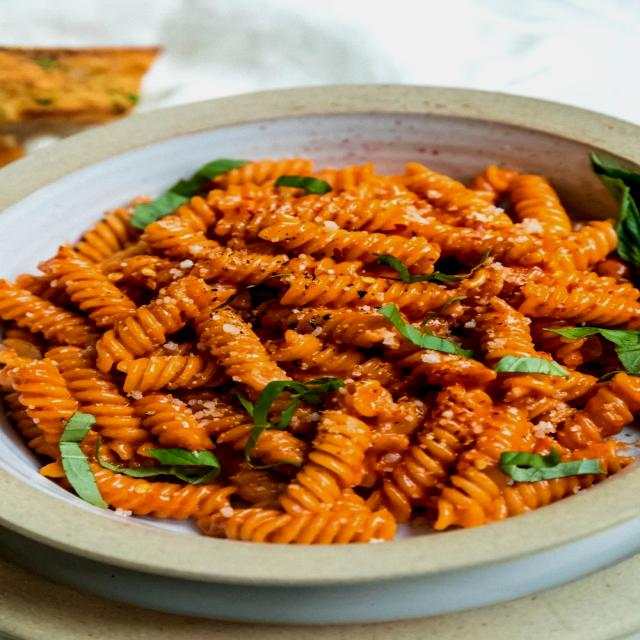pasta: (43, 134, 597, 526)
